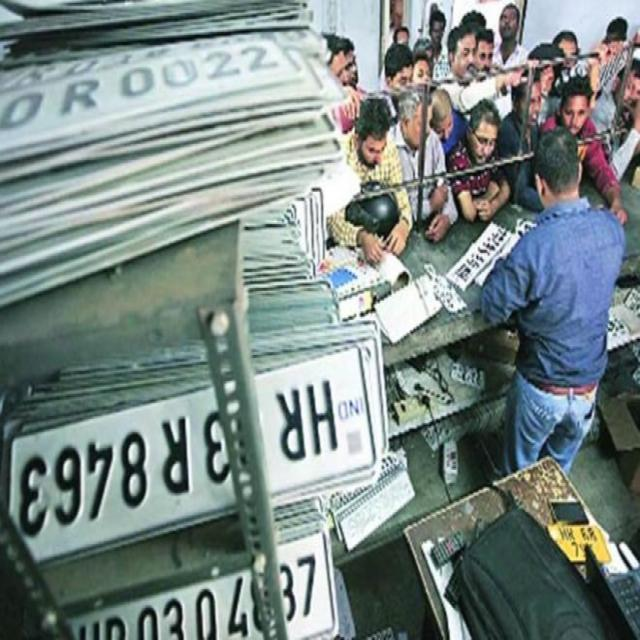License_Plate: (0, 347, 392, 556)
